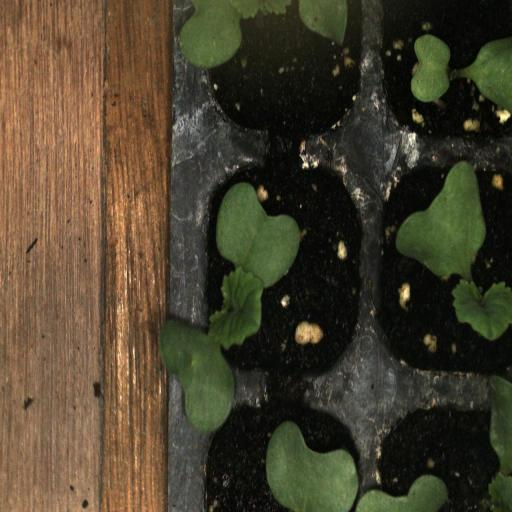seedling: (193, 151, 366, 393), (368, 154, 512, 393)
